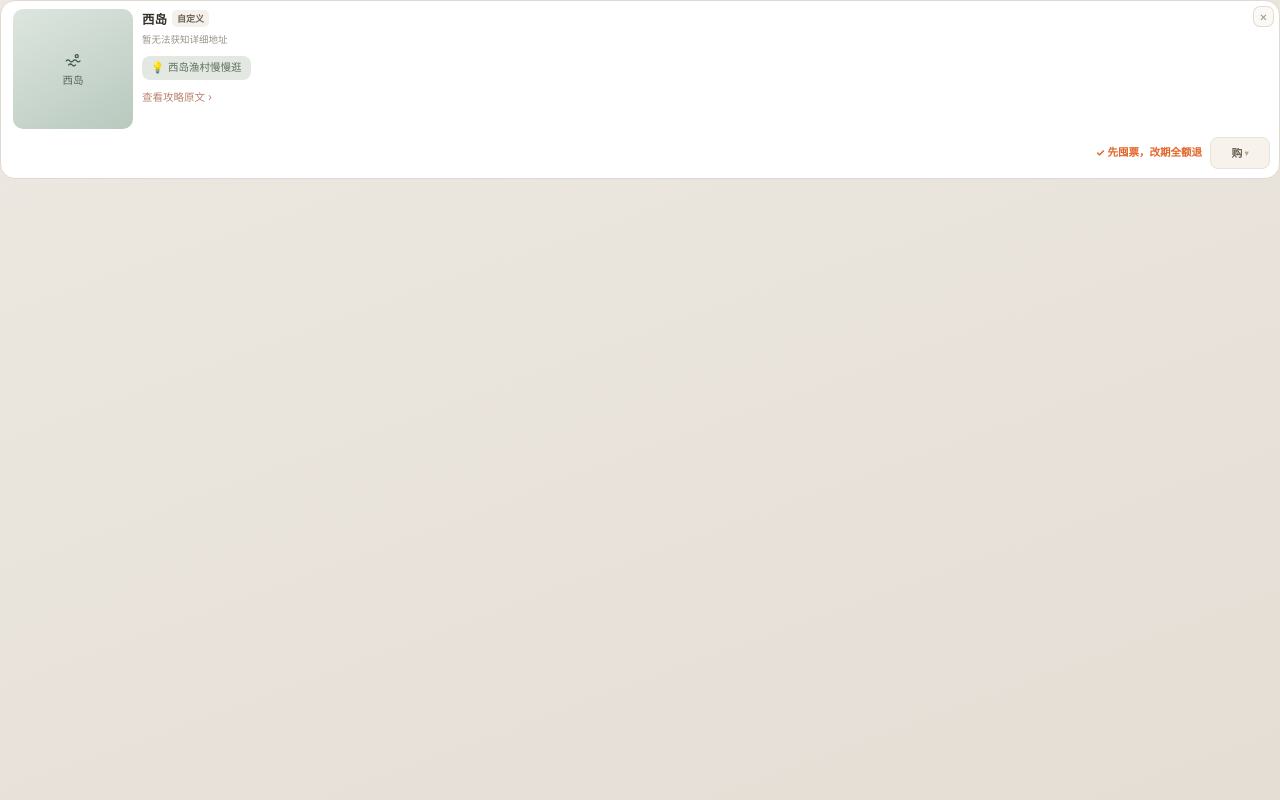
it: VisitCard 普通景点（任务 124：绿色 chip 与灰色入口分离） › 有外部链接来源：灰色入口为外链 <a>；绿色 chip 打开 EvidenceSheet 互不干扰
This screenshot has width=1280, height=800.
Expected: the link with class "evidence-link" is shown, left=142, top=90, right=212, bottom=106
Click the button with class "guide-snippet-chip".
click(196, 68)  # box left=142, top=56, right=251, bottom=80
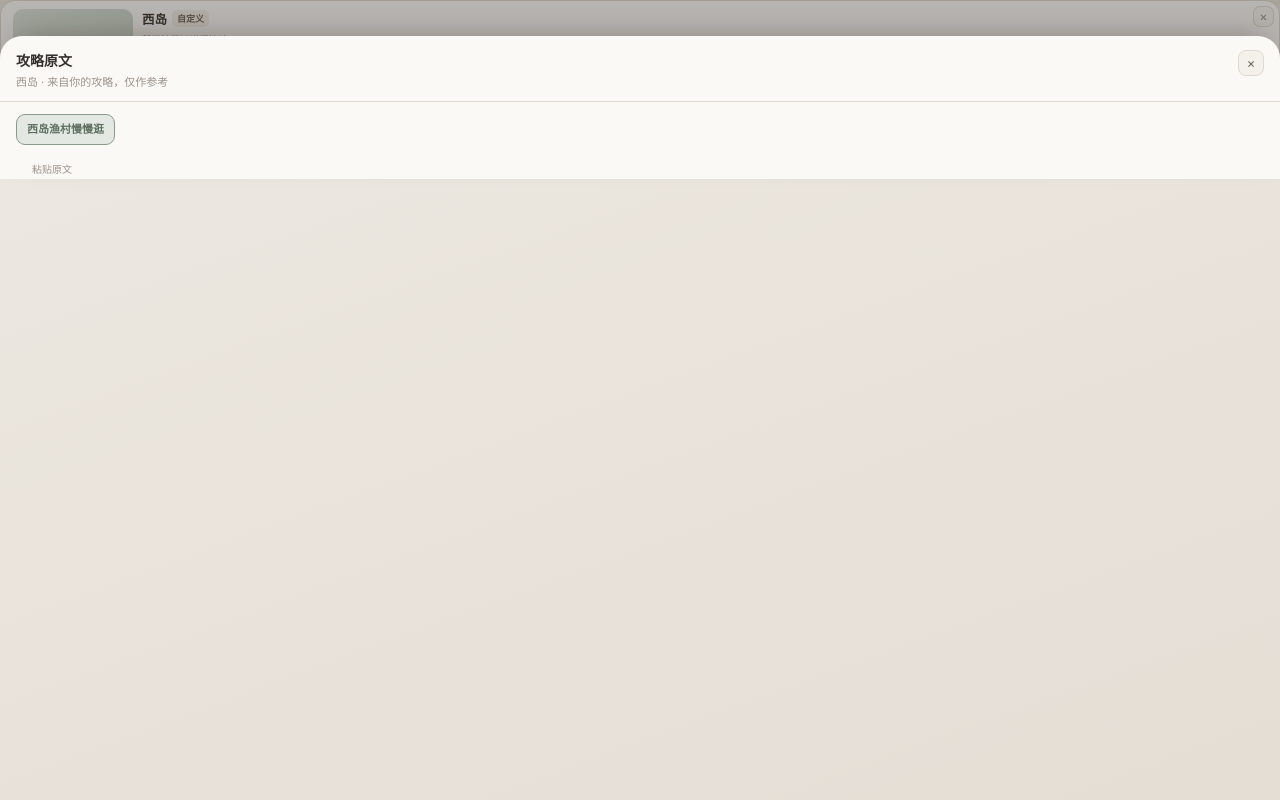
Result: the dialog "攻略原文" is shown at left=0, top=36, right=1279, bottom=179
